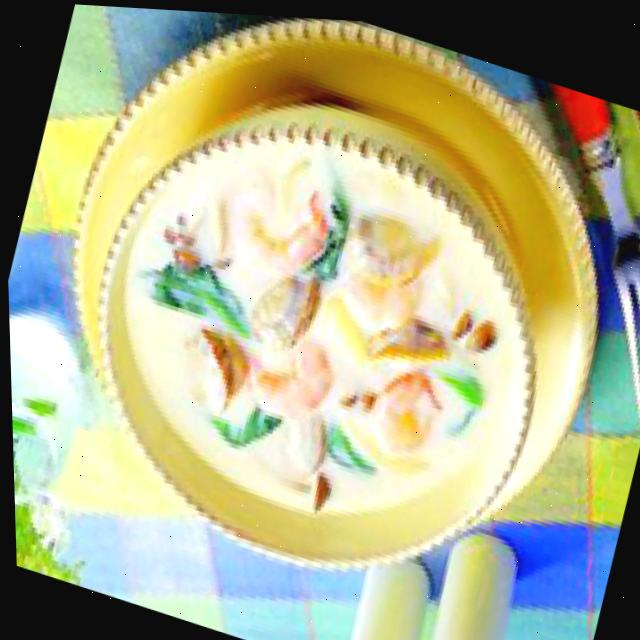汤锅炖物: (27, 29, 599, 640)
